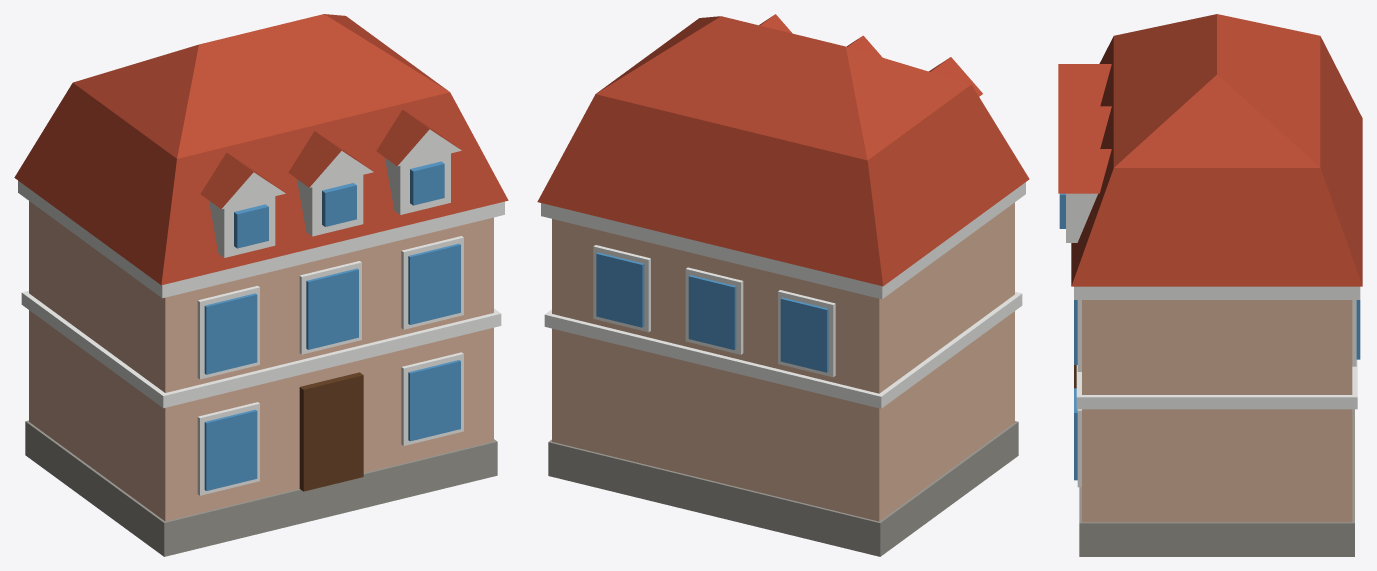
Rendered from 30_baroque_mansard_3.obj.
The picture shows the model from 3 angles, left to right: view 1: azimuth 30°, elevation 25°; view 2: azimuth 150°, elevation 25°; view 3: azimuth 270°, elevation 25°; orthographic projection.
Visible parts, largest first — view 1: 30_baroque_mansard_3; view 2: 30_baroque_mansard_3; view 3: 30_baroque_mansard_3.
Boxes of the visible parts, x1,y1,x2,y2 form: 30_baroque_mansard_3: (14, 14, 508, 556); 30_baroque_mansard_3: (537, 14, 1029, 556); 30_baroque_mansard_3: (1058, 14, 1362, 556).
Size of the model in its own units: 1.5 by 1.8 by 1.15.
